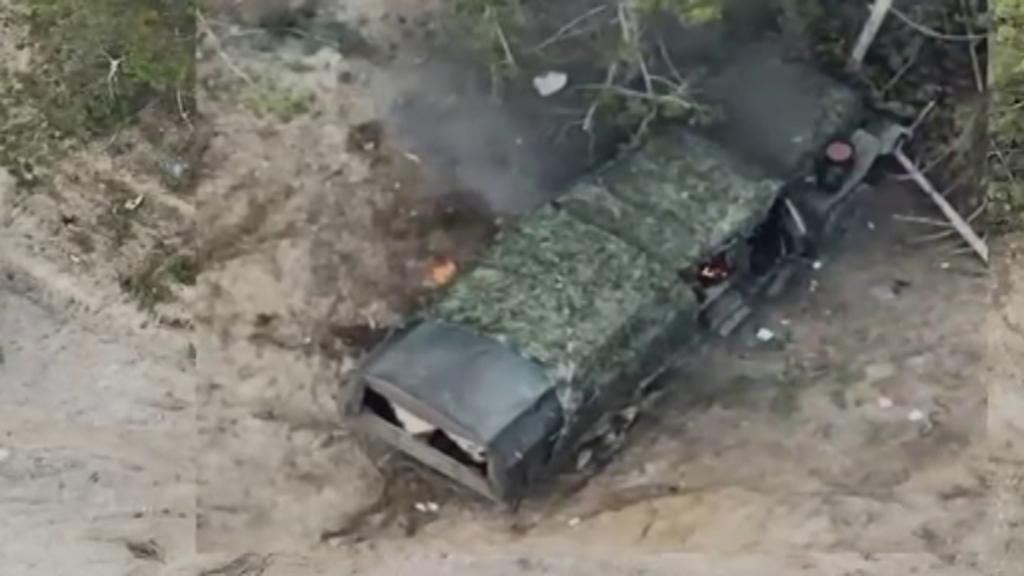TRUCK: (340, 38, 884, 510)
